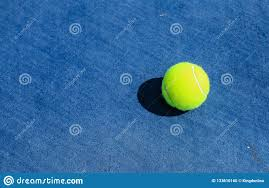tennis_ball: (161, 61, 210, 111)
